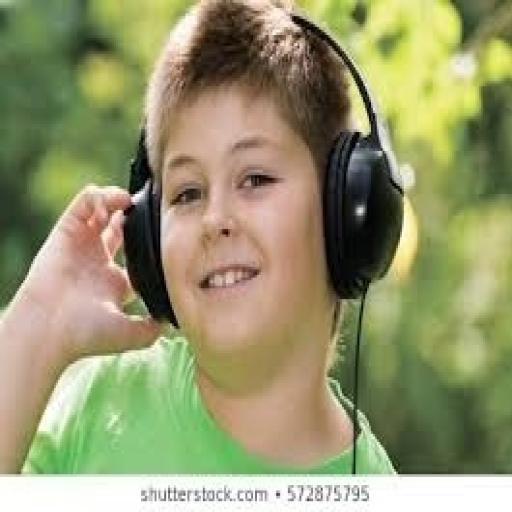listening_to_music: (0, 0, 405, 474)
